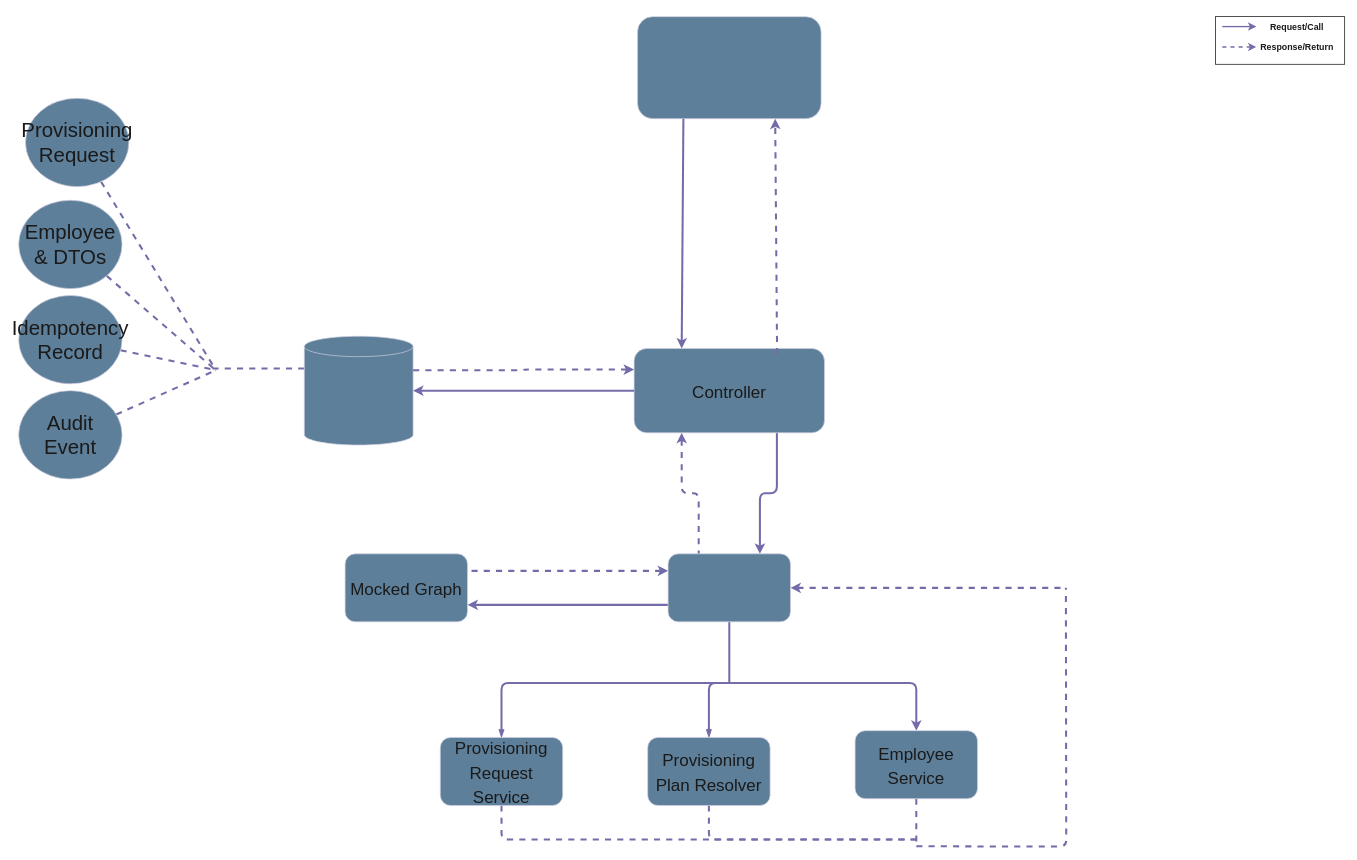
Image size: 1357x860. Some labels were removed from this diagram. The centre of each missing label's shape, as x and y in pixels:
HR Information System: (729,67)
Orchestrator: (728,587)
PostgreSQL: (358,390)
